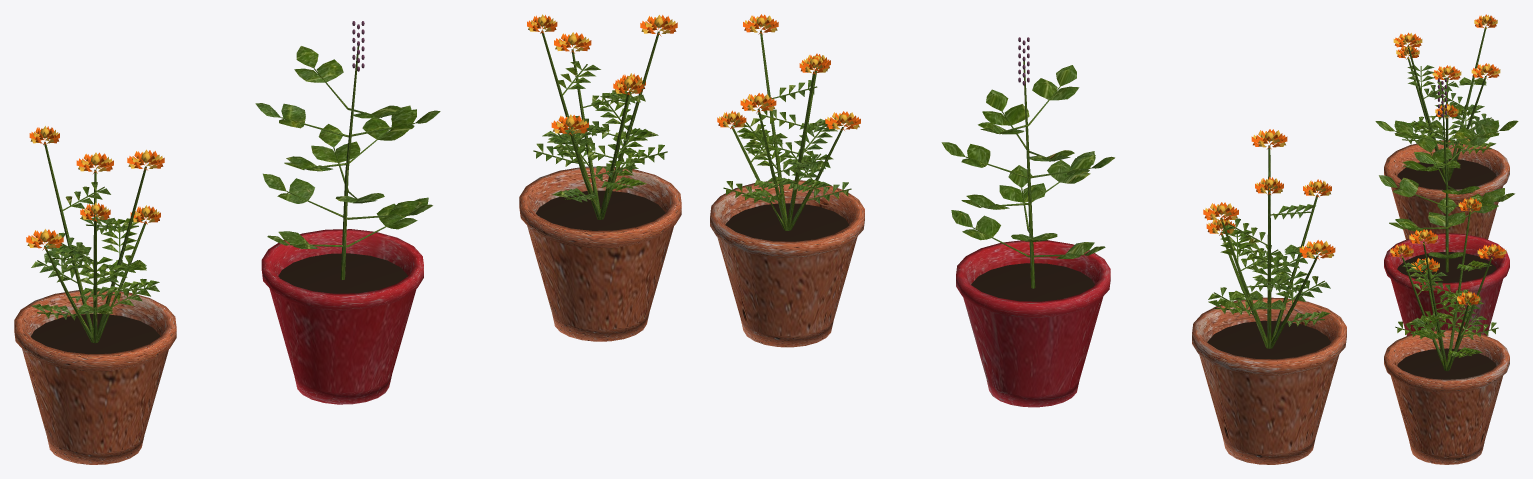
Rendered from prop_flower_pots.glb.
3 renders of one model, left to right at view 1: azimuth 30°, elevation 25°; view 2: azimuth 150°, elevation 25°; view 3: azimuth 270°, elevation 25°, orthographic. The views are drawn at different scales.
Parts seen in each view (by area): view 1: tulsi_plastic, marigold_terracotta, marigold_clay; view 2: tulsi_plastic, marigold_terracotta, marigold_clay; view 3: marigold_clay, tulsi_plastic, marigold_terracotta.
Boxes of the visible parts, box(x1,y1,x2,y2) form: tulsi_plastic: box(255, 21, 440, 404); marigold_terracotta: box(14, 126, 176, 464); marigold_clay: box(519, 14, 681, 341); tulsi_plastic: box(941, 37, 1114, 407); marigold_terracotta: box(1192, 129, 1346, 464); marigold_clay: box(710, 14, 864, 347); marigold_clay: box(1384, 197, 1509, 464); tulsi_plastic: box(1375, 78, 1518, 335); marigold_terracotta: box(1384, 14, 1509, 239).
Size of the model in its own units: 1.28 by 0.685 by 0.32.
Materials: 8 (4 with a texture image).
